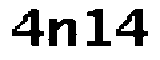1: (84, 7, 115, 51)
4: (111, 5, 152, 48), (9, 4, 44, 50)
n: (45, 15, 82, 50)
